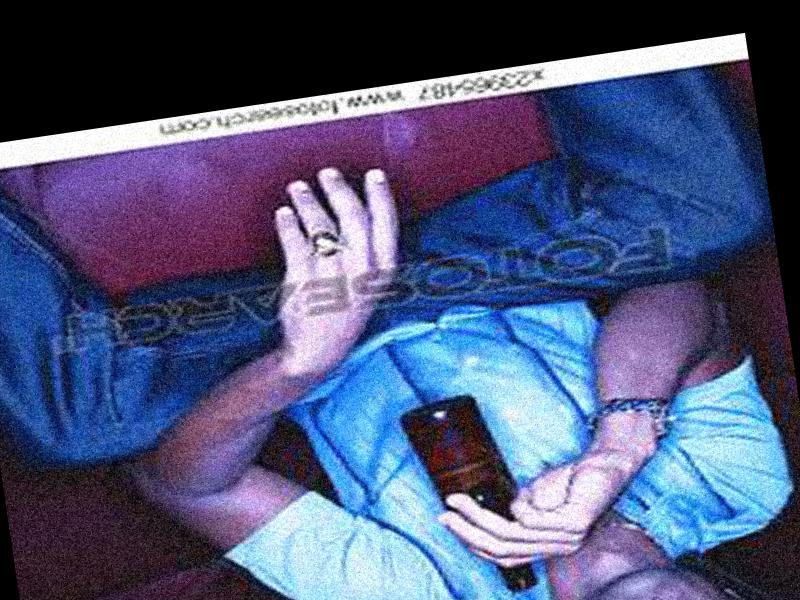Beer: (395, 390, 539, 600)
